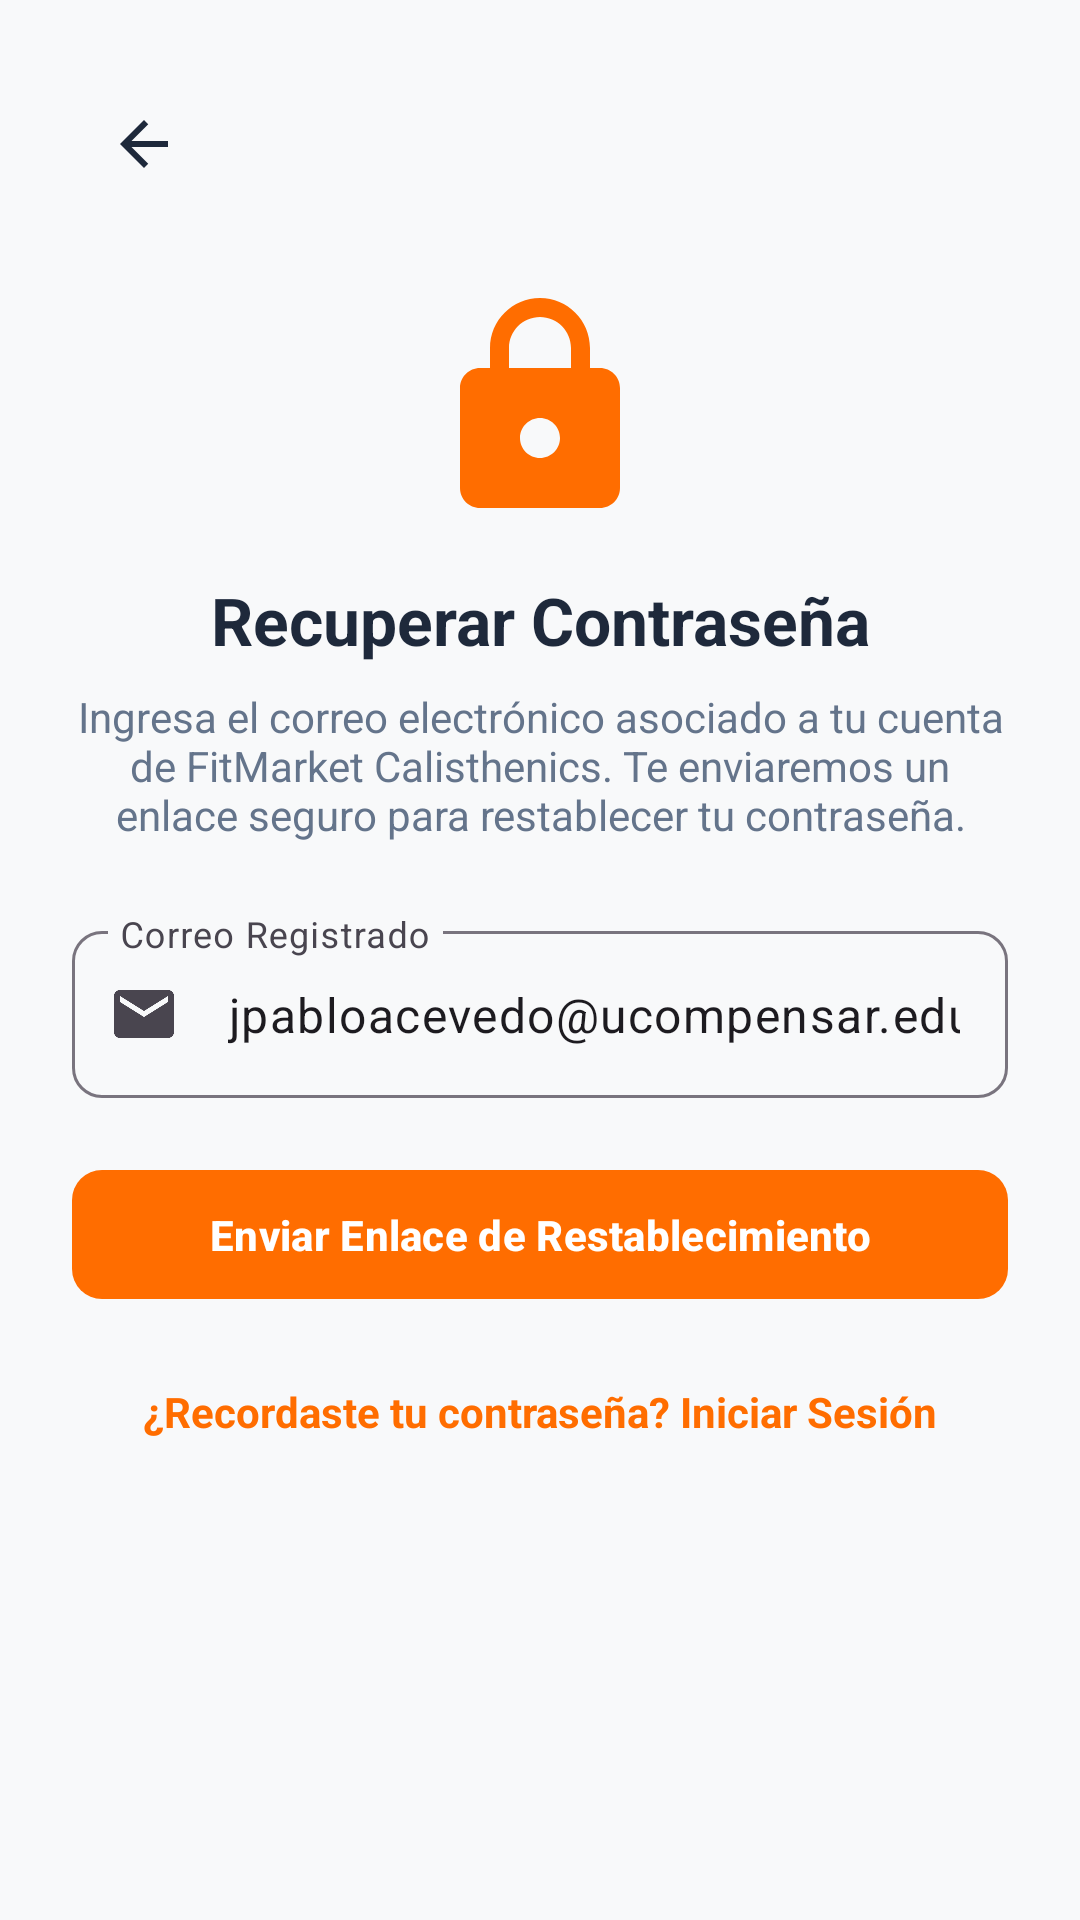

Icons on this 1080px×1920px Android screen, each with the point to tap as point (x, y):
Volver: point (144, 144)
